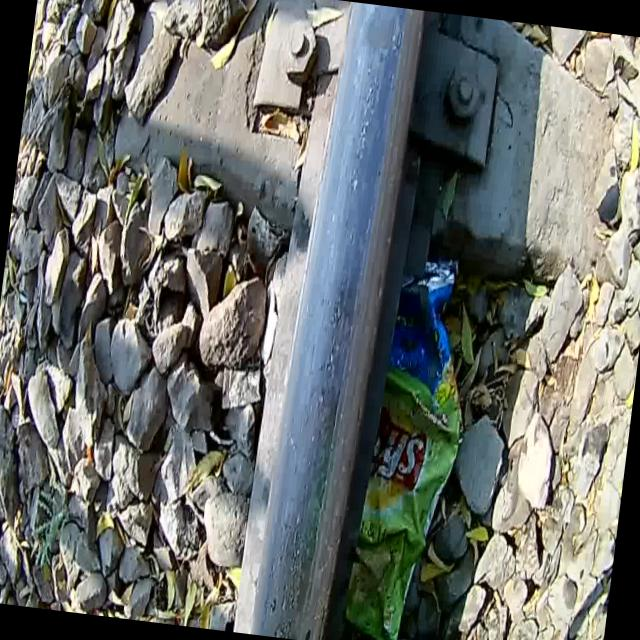Squats: (328, 0, 441, 73)
